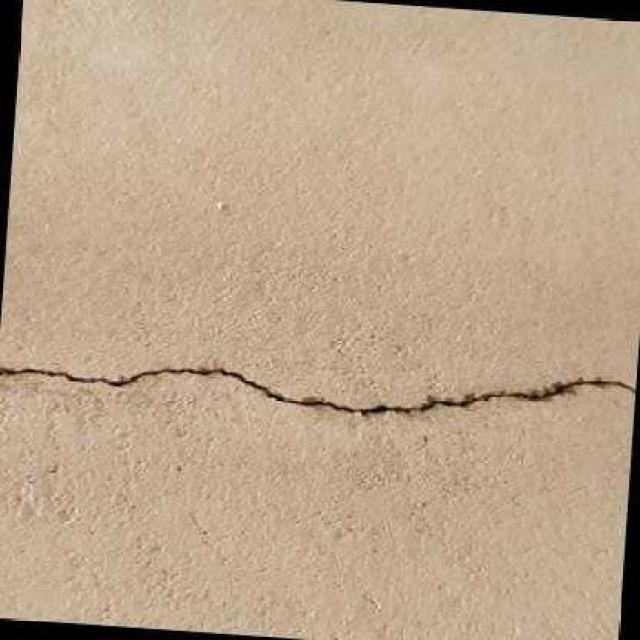D00: (0, 368, 636, 417)
